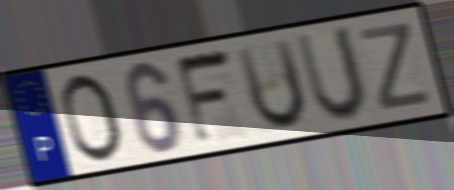6: (122, 57, 184, 157)
F: (172, 45, 236, 150)
O: (58, 71, 127, 167)
U: (292, 22, 372, 125), (232, 35, 310, 135)
Z: (356, 19, 435, 115)
